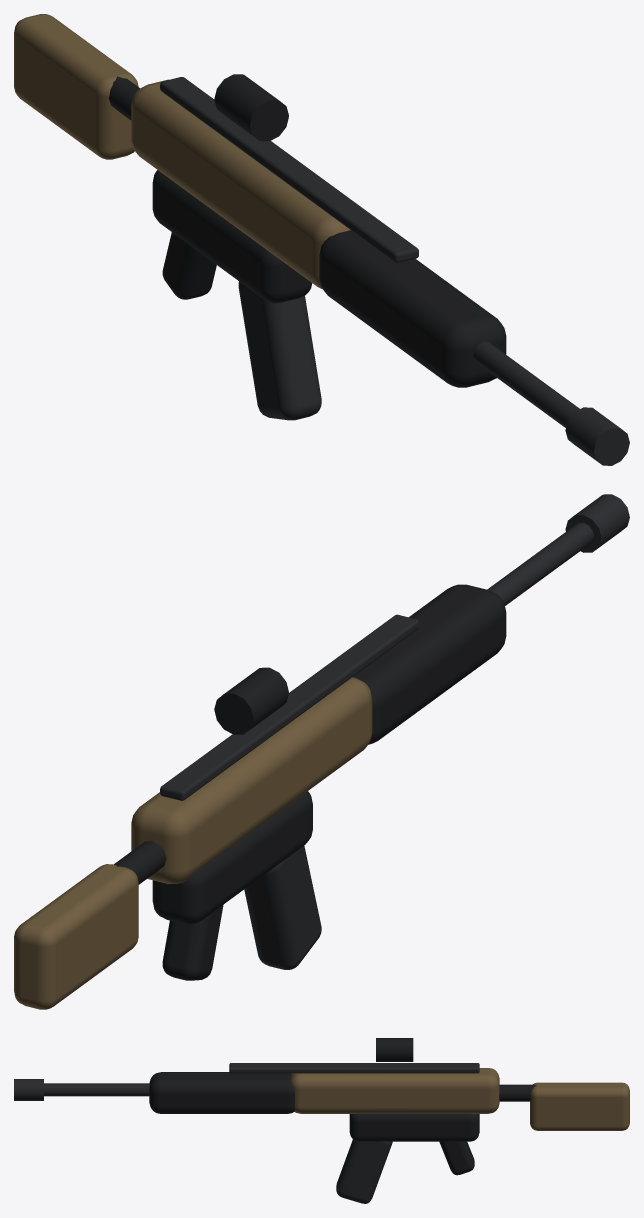
Rendered from badger.glb.
The picture shows the model from 3 angles, top to bottom: view 1: azimuth 30°, elevation 25°; view 2: azimuth 150°, elevation 25°; view 3: azimuth 270°, elevation 25°; orthographic projection. The views are drawn at different scales.
Parts seen in each view (by area): view 1: Badger; view 2: Badger; view 3: Badger.
Boxes of the visible parts, <box> form: Badger: <box>14,14,629,465</box>; Badger: <box>14,494,629,1009</box>; Badger: <box>14,1038,629,1203</box>.
Bounding box in the file's own units: 0.075 × 0.3573 × 1.23.
